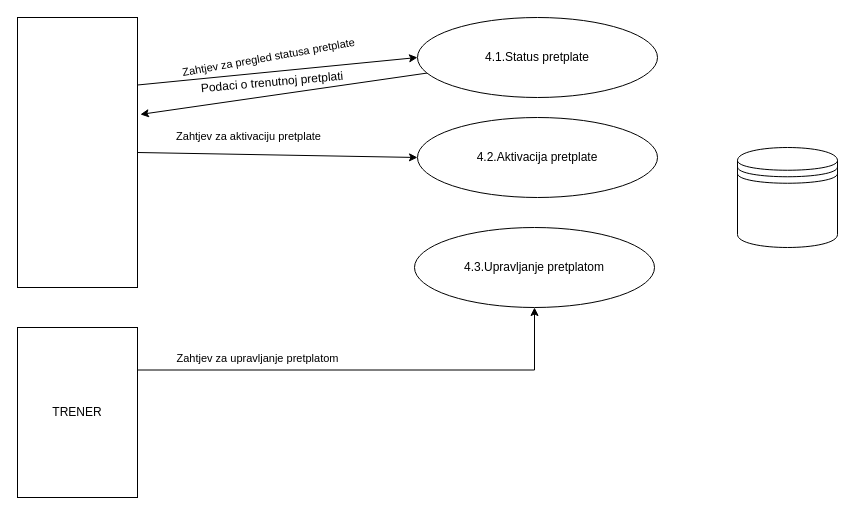
This 855x515 diagram has some shape labels left out. Each missing label, with the box of its shape:
BAZA PODATAKA: (736, 146, 838, 248)
KORISNIK: (16, 16, 138, 288)
